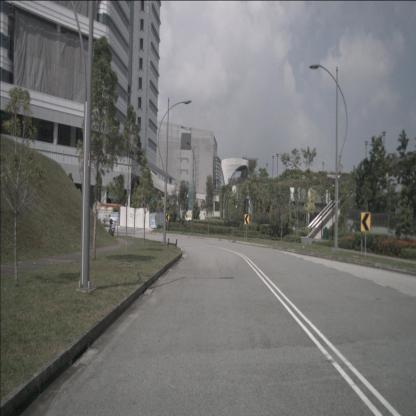vehicle-motorcycle: (109, 216, 117, 237)
